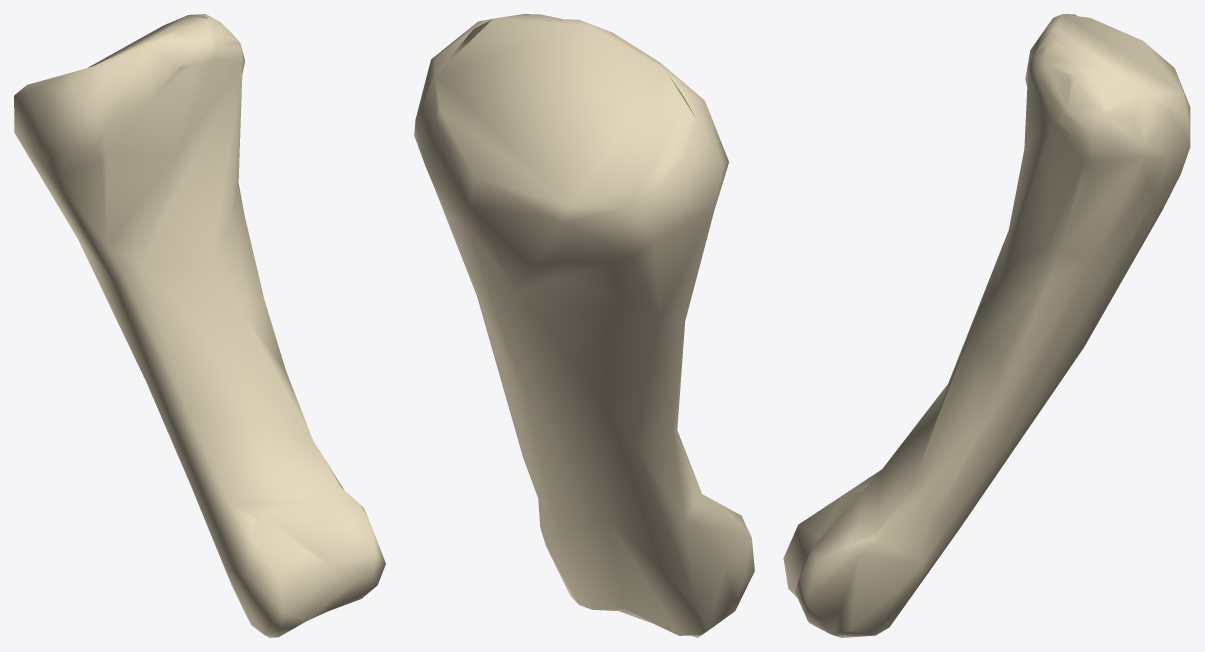
The model's file is esqueleto-proximal-phalanx-of-fifth-finger-of-hand-r.glb.
3 renders of one model, left to right at view 1: azimuth 30°, elevation 25°; view 2: azimuth 150°, elevation 25°; view 3: azimuth 270°, elevation 25°, orthographic. The views are drawn at different scales.
Parts seen in each view (by area): view 1: Proximal phalanx of fifth finger of hand.r; view 2: Proximal phalanx of fifth finger of hand.r; view 3: Proximal phalanx of fifth finger of hand.r.
Part boxes in pixels (left/top/right/bottom): Proximal phalanx of fifth finger of hand.r: left=14, top=14, right=385, bottom=637; Proximal phalanx of fifth finger of hand.r: left=414, top=14, right=754, bottom=637; Proximal phalanx of fifth finger of hand.r: left=783, top=14, right=1190, bottom=637.
Bounding box in the file's own units: 0.0148 × 0.0338 × 0.0216.
